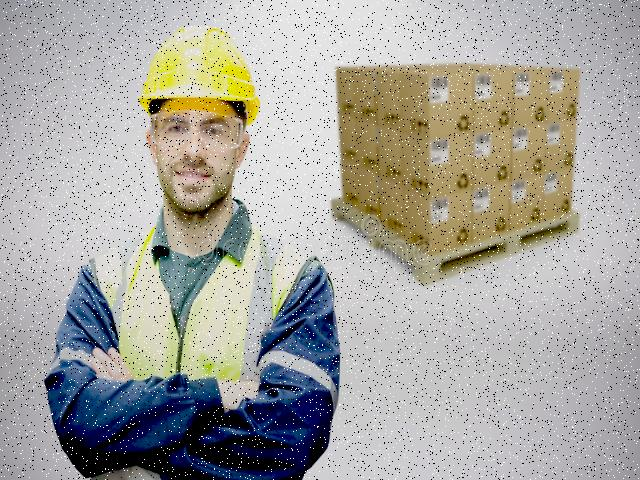Helmet: (133, 17, 265, 132)
